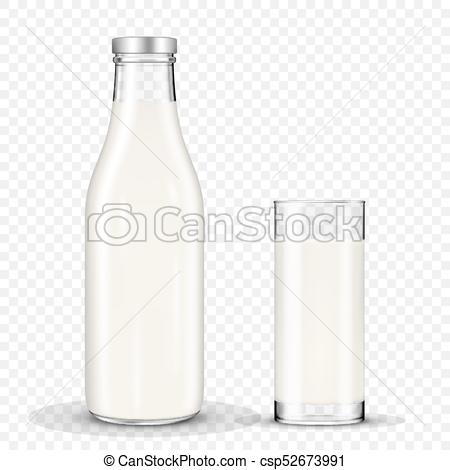glass of milk: (91, 102, 209, 421), (263, 201, 370, 428)
